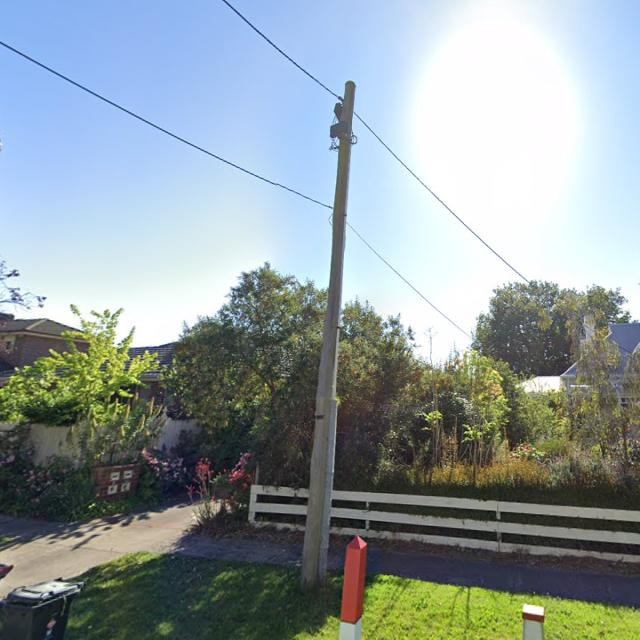timber-pole: (299, 80, 357, 590)
